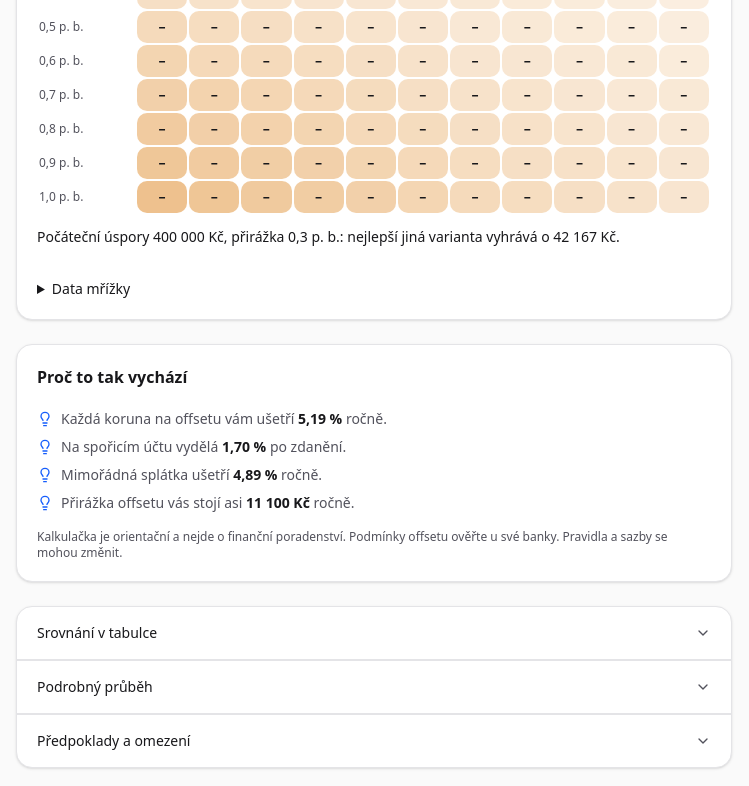
Scenario: default inputs: the verdict names scenario D and the table is ordered D, C, B, A
The image size is (749, 786).
(page scrolled)
Click the button "Srovnání v tabulce" at (97, 632), box [37,607,711,659]
(page scrolled)
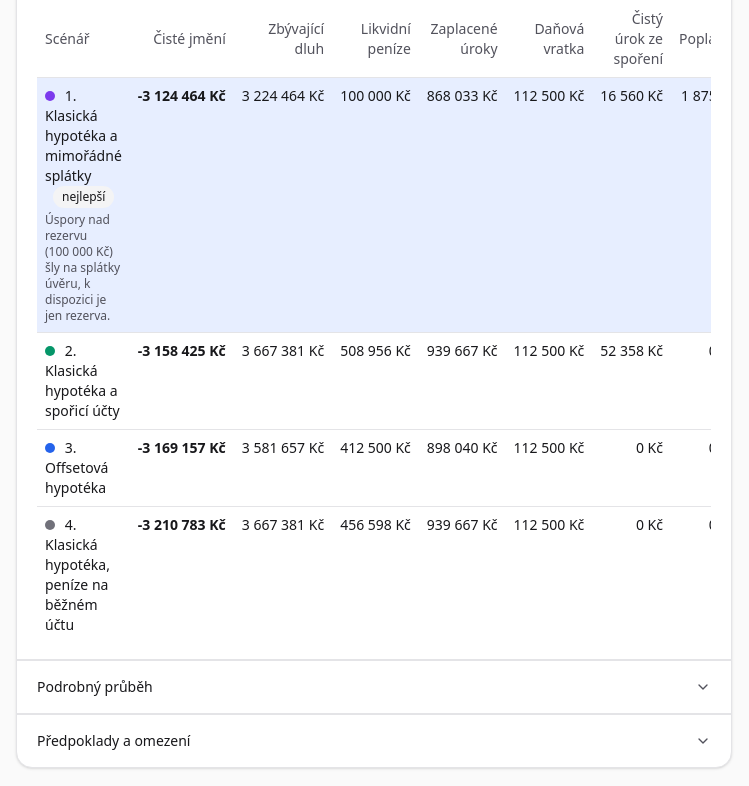
Check: the column heading that starts with "Klasická hypotéka a mimořádné splátky" shows "1. Klasická hypotéka a mimořádné splátky", box [37,78,130,333]
Check: the column heading "2. Klasická hypotéka a spořicí účty" is shown, box [37,333,130,430]
Check: the column heading "3. Offsetová hypotéka" is shown, box [37,430,130,507]
